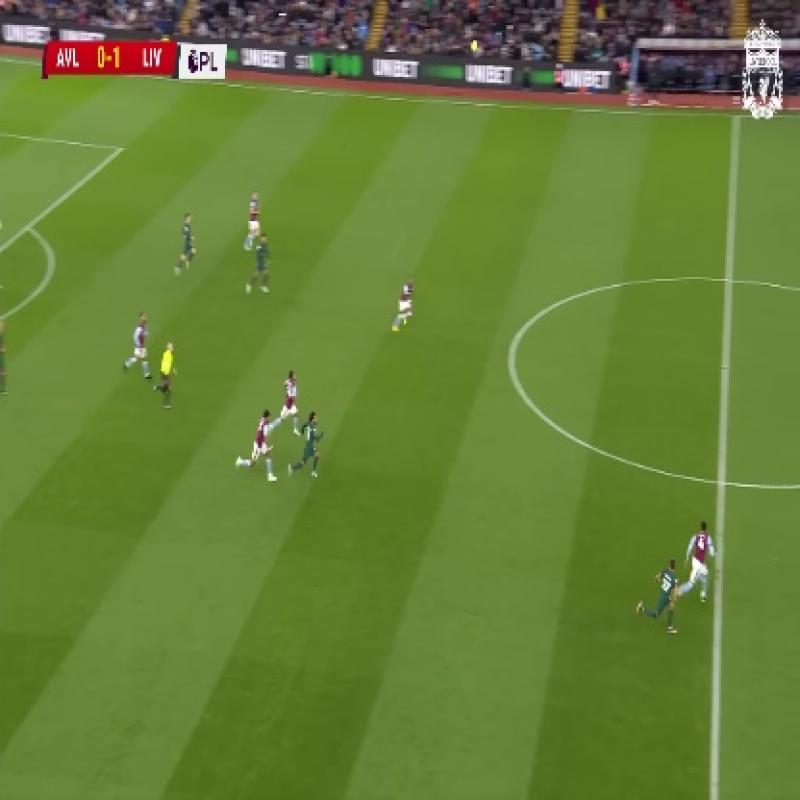10: (17, 213, 35, 238)
13: (725, 106, 744, 131)
14: (714, 262, 742, 300)
15: (704, 456, 736, 506)
9: (108, 130, 130, 166)
c: (489, 326, 534, 380)
